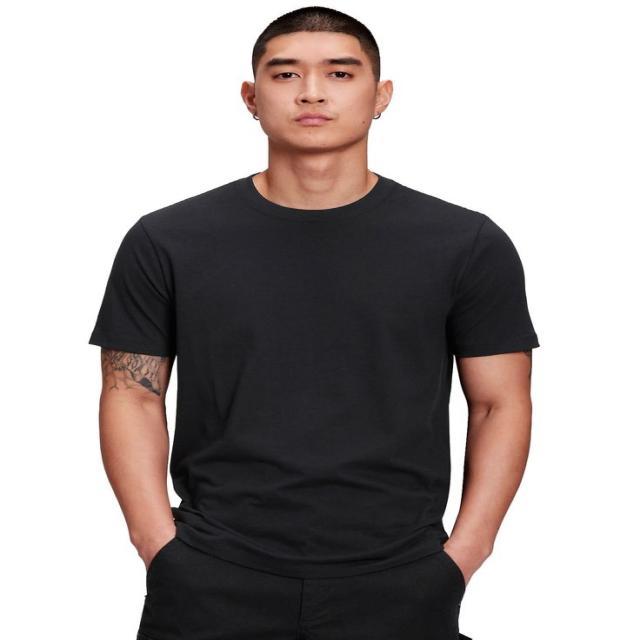shoulder: (106, 186, 526, 306)
